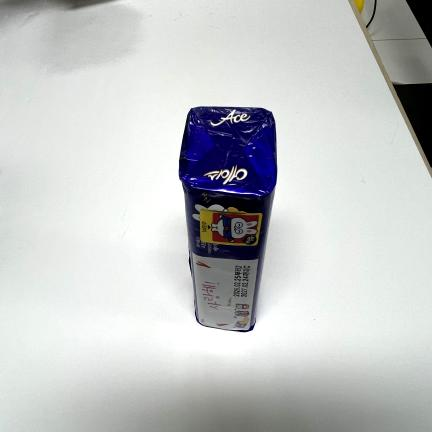cracker_ace: (178, 107, 278, 331)
